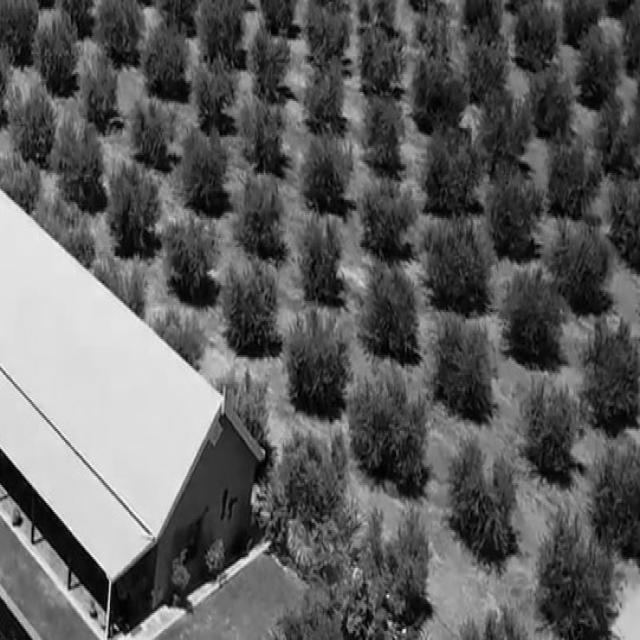trees: (530, 518, 615, 640), (438, 435, 523, 550), (347, 371, 435, 475), (504, 265, 575, 371), (287, 305, 357, 407), (355, 258, 421, 365), (432, 315, 494, 417), (513, 371, 573, 475), (225, 251, 285, 355), (553, 211, 611, 316), (589, 306, 640, 425), (102, 165, 164, 256), (156, 209, 218, 299), (418, 114, 483, 199), (355, 164, 416, 253), (424, 218, 489, 298), (295, 123, 353, 209), (49, 118, 102, 212), (297, 211, 346, 310), (185, 52, 242, 133), (234, 94, 295, 168), (7, 77, 57, 160), (542, 128, 593, 208), (493, 166, 539, 253), (597, 431, 640, 521), (33, 14, 79, 95), (237, 167, 280, 253), (409, 58, 475, 114), (144, 17, 188, 100), (362, 91, 407, 169), (350, 24, 400, 92), (94, 0, 144, 67), (530, 53, 574, 129), (597, 90, 639, 166), (510, 2, 566, 59), (192, 0, 247, 58), (186, 128, 229, 202), (298, 63, 346, 129), (603, 174, 640, 259), (479, 91, 524, 159), (128, 94, 176, 157), (82, 53, 120, 132), (302, 0, 351, 61), (250, 29, 298, 91), (468, 34, 517, 94), (573, 30, 618, 90), (414, 0, 453, 58), (1, 0, 38, 50), (460, 0, 501, 41)
